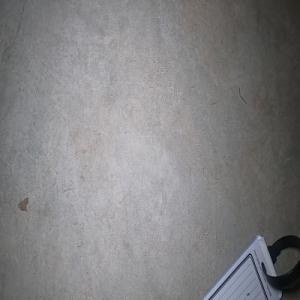LuggageTag: (200, 233, 300, 300)
